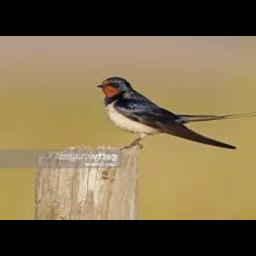Swallow: (97, 76, 256, 149)
